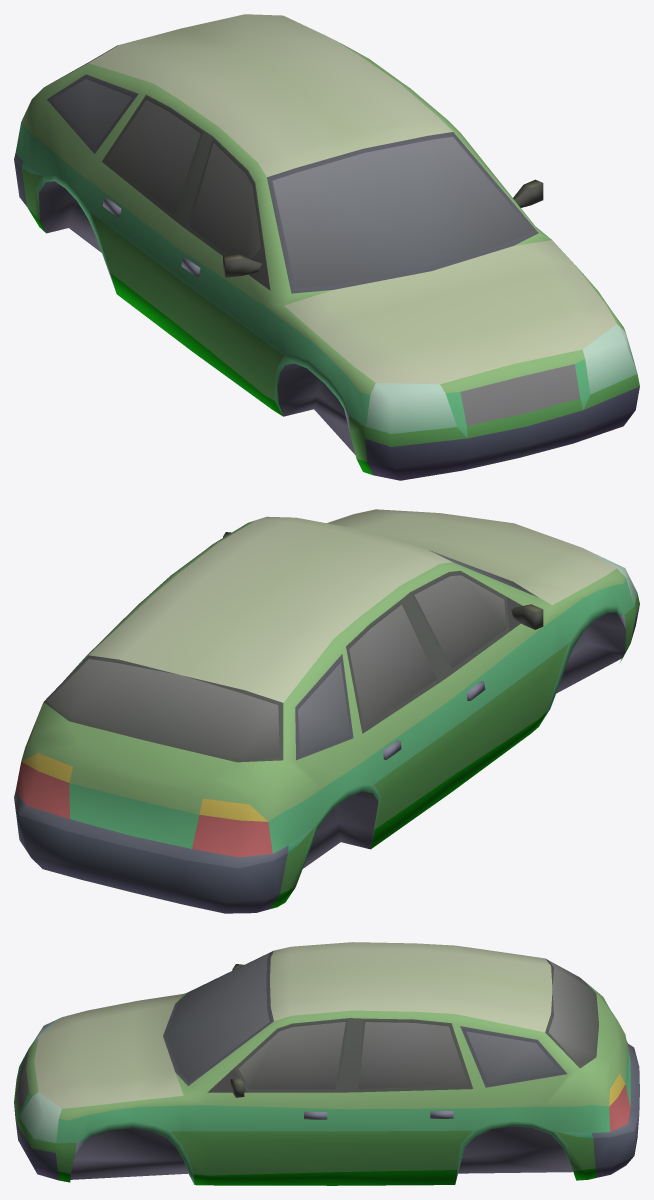
Rendered from green_car.glb.
3 renders of one model, top to bottom at view 1: azimuth 30°, elevation 25°; view 2: azimuth 150°, elevation 25°; view 3: azimuth 270°, elevation 25°, orthographic. The views are drawn at different scales.
Parts seen in each view (by area): view 1: green_car; view 2: green_car; view 3: green_car.
Boxes of the visible parts, bbox=[...] form: green_car: bbox=[14, 14, 639, 480]; green_car: bbox=[14, 509, 639, 913]; green_car: bbox=[14, 942, 639, 1185].
Bounding box in the file's own units: 0.3142 × 0.2024 × 0.6897.
